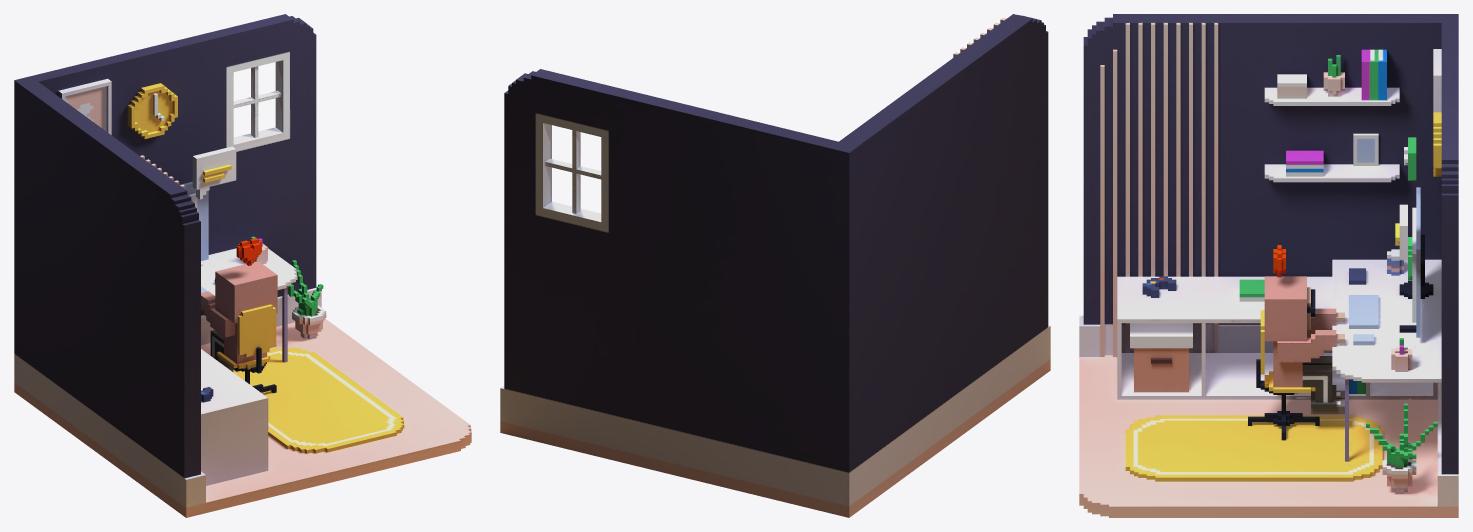
File: myRoom.glb
The picture shows the model from 3 angles, left to right: view 1: azimuth 30°, elevation 25°; view 2: azimuth 150°, elevation 25°; view 3: azimuth 270°, elevation 25°; orthographic projection. The views are drawn at different scales.
Parts seen in each view (by area): view 1: voxelforwebsite; view 2: voxelforwebsite; view 3: voxelforwebsite.
Boxes of the visible parts, x1=… form: voxelforwebsite: x1=14, y1=14, x2=471, y2=517; voxelforwebsite: x1=500, y1=14, x2=1050, y2=517; voxelforwebsite: x1=1079, y1=14, x2=1458, y2=517.
Size of the model in its own units: 9 by 9 by 9.
1 material, 1 textured.
